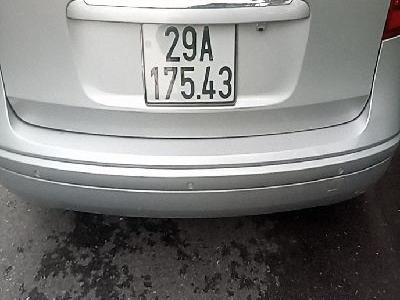number: (141, 17, 238, 106)
